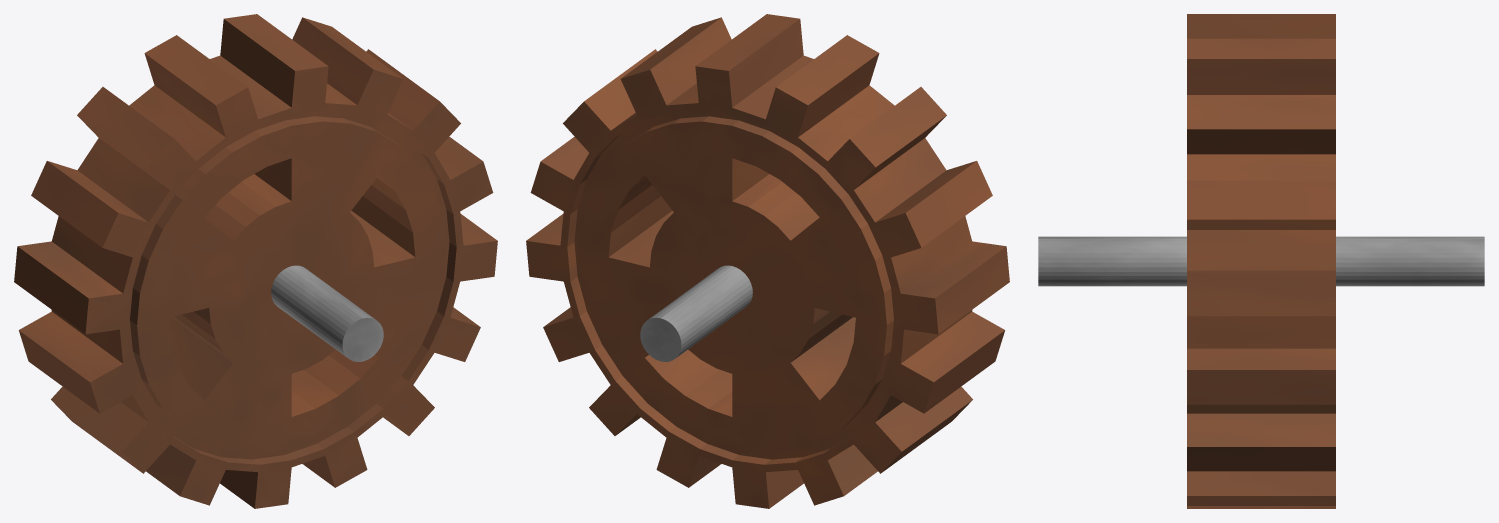
File: Gear.obj
3 renders of one model, left to right at view 1: azimuth 30°, elevation 25°; view 2: azimuth 150°, elevation 25°; view 3: azimuth 270°, elevation 25°, orthographic. The views are drawn at different scales.
Parts seen in each view (by area): view 1: Gear; view 2: Gear; view 3: Gear.
Part boxes in pixels (x1,y1,x2,y2): Gear: (14, 14, 497, 508); Gear: (526, 14, 1009, 508); Gear: (1038, 14, 1484, 508).
Bounding box in the file's own units: 1 × 1 × 0.9.
Materials: 1 (1 with a texture image).
